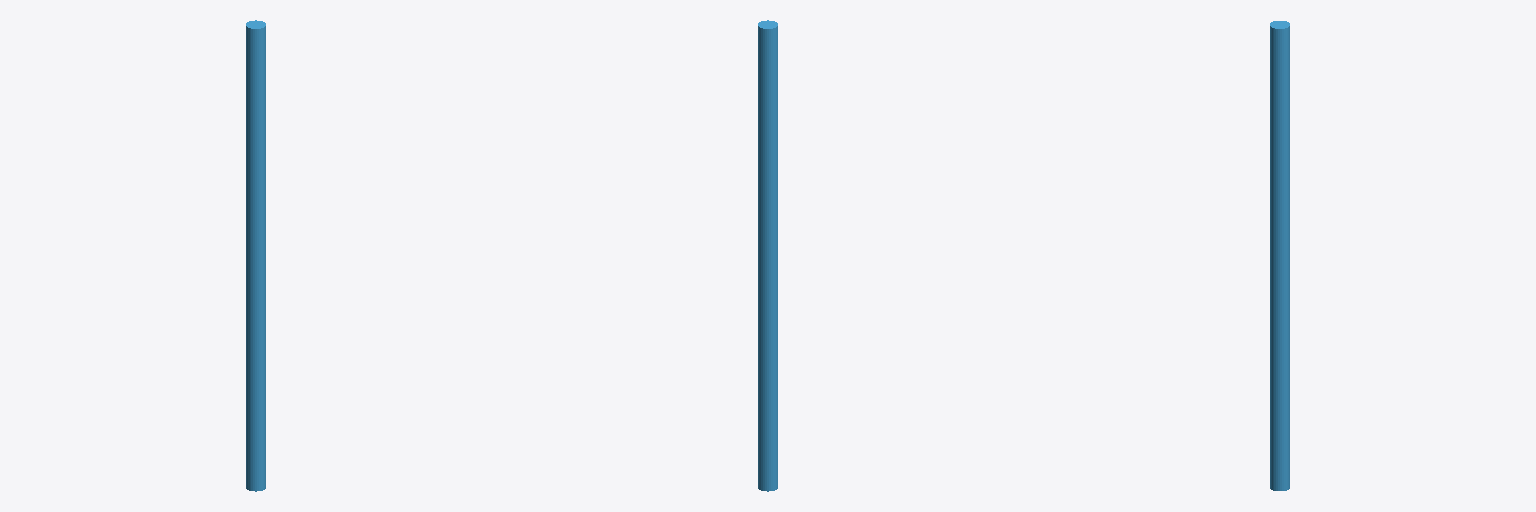
robot.urdf — pendulum:
<?xml version="1.0"?>

<robot name="pendulum">
  <mujoco>
    <compiler fusestatic="false" balanceinertia="true" discardvisual="false"/>
  </mujoco>

  <!-- nontrivial base link -->
  <link name="base">
    <inertial>
      <mass value="2"/>
      <origin rpy="0 0 0" xyz="0 0 0"/>
      <inertia ixx="1.0" ixy="0" ixz="0" iyy="1.0" iyz="0" izz="1.0"/>
    </inertial>
  </link>

  <!-- pendulum link -->
  <link name="pendulum_link">
    <visual name="pendulum_link_visual">
      <origin rpy="0 0 0" xyz="0 0 -0.5"/>
      <geometry>
        <cylinder length="1.0" radius="0.02"/>
      </geometry>
    </visual>
    <collision name="pendulum_link_collision">
      <origin rpy="0 0 0" xyz="0 0 -0.5"/>
      <geometry>
        <cylinder length="1.0" radius="0.02"/>
      </geometry>
    </collision>
    <inertial>
      <mass value="1"/>
      <origin rpy="0 0 0" xyz="0 0 -0.5"/>
      <inertia ixx="0.083433" ixy="0" ixz="0" iyy="0.083433" iyz="0" izz="0.0002"/>
    </inertial>
  </link>

  <!-- pendulum joint -->
  <joint name="pendulum_joint" type="revolute">
    <origin rpy="0 0 0" xyz="0 0 0"/>
    <parent link="base"/>
    <child link="pendulum_link"/>
    <axis xyz="0 0 1"/>
    <limit effort="2.0" velocity="8.0" lower="-3.1416" upper="3.1416"/>
  </joint>
</robot>

--- What the picture shows (computed from the rendered views, not written in the file) ---
3 views of the same robot in one strip: view 1: azimuth 30°, elevation 25°; view 2: azimuth 150°, elevation 25°; view 3: azimuth 270°, elevation 25° (orthographic).
Model pendulum with 2 links and 1 joints (1 revolute), rooted at base, posed all joints at 0.
Links seen in each view (by area): view 1: pendulum_link; view 2: pendulum_link; view 3: pendulum_link.
Boxes of the visible links, x1,y1,x2,y2 form: pendulum_link: (246, 20, 265, 491); pendulum_link: (758, 20, 777, 491); pendulum_link: (1270, 21, 1289, 490).
Bounding box of the posed robot: 0.04 × 0.04 × 1 m (x, y, z).
Geometry: primitives only (box / cylinder / sphere), no mesh files.
